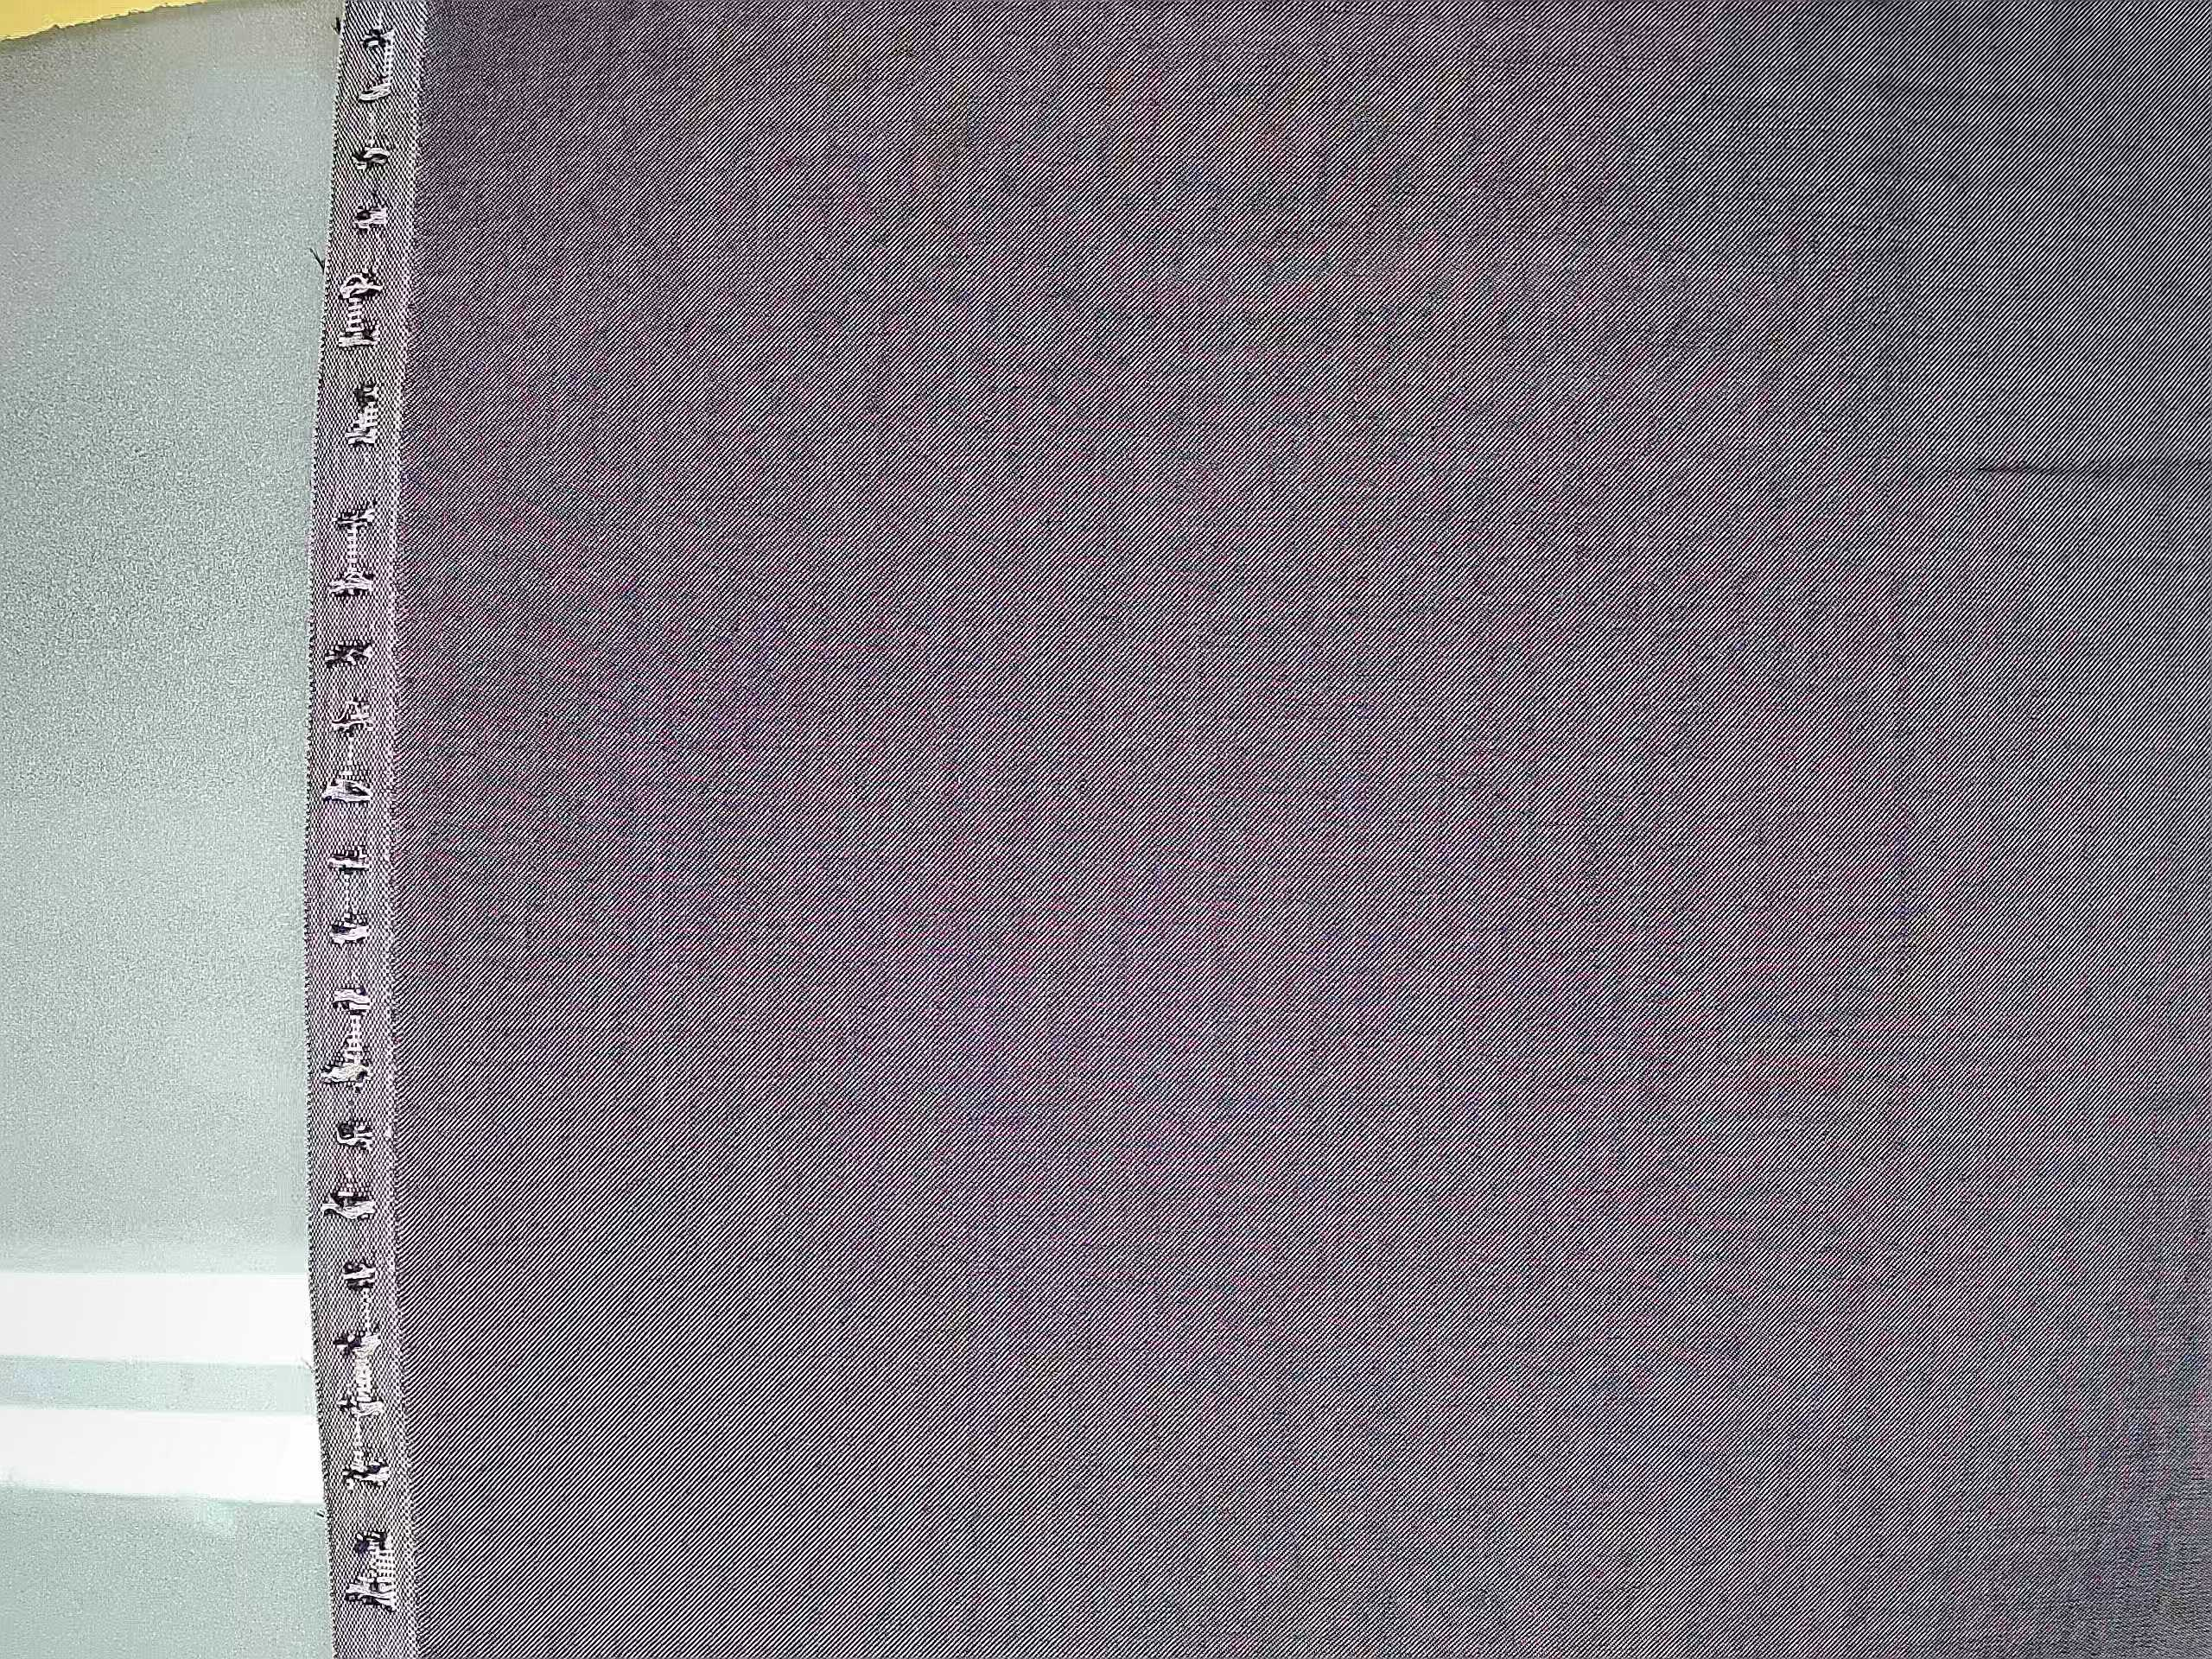puncture-hole: (326, 16, 411, 1621)
